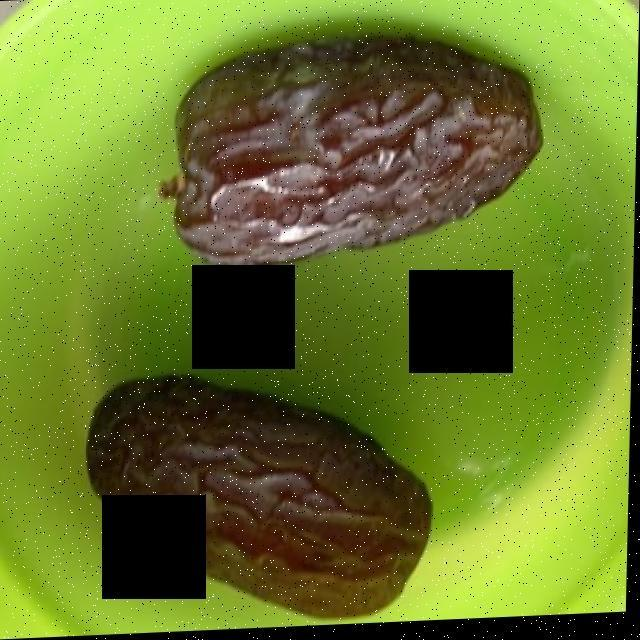dates: (90, 31, 540, 626)
